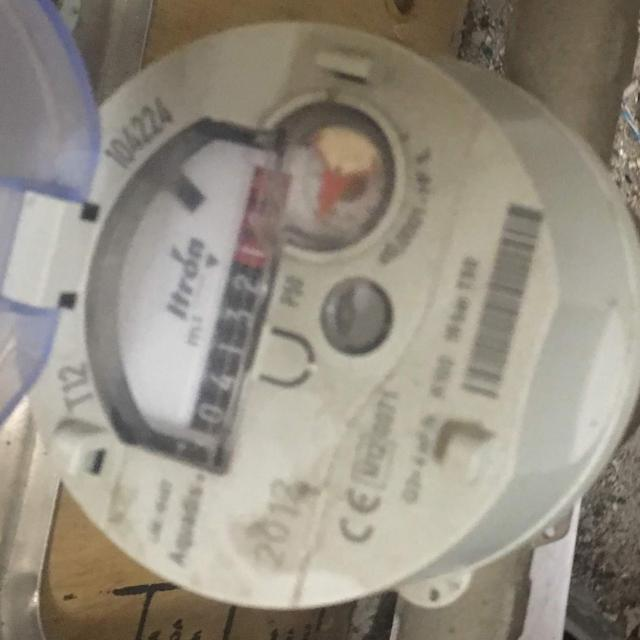gaz_meter: (24, 22, 563, 612)
indication: (169, 160, 302, 455)
